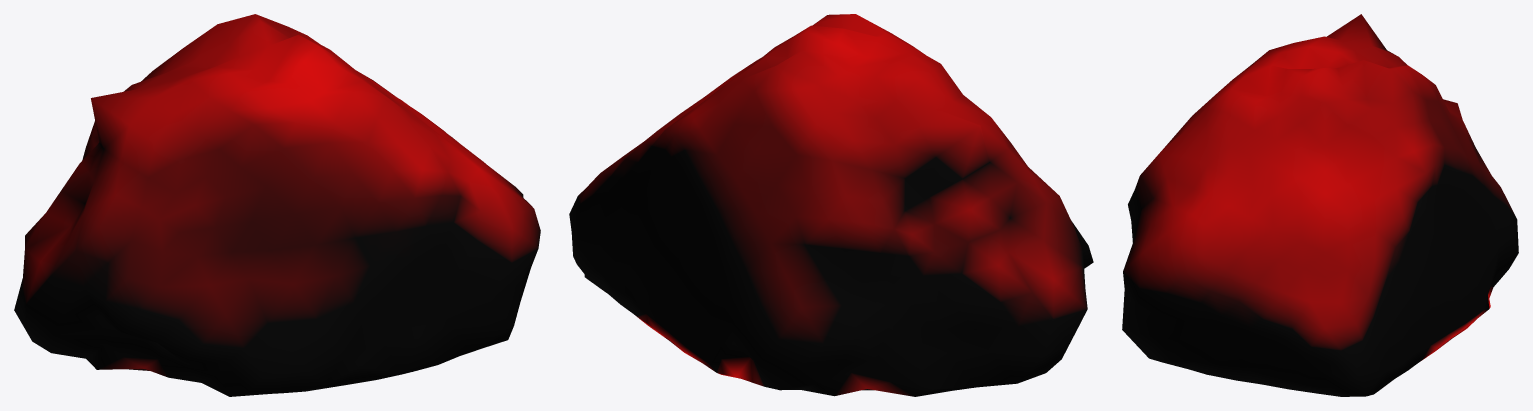
File: rock_d.glb
3 views of the same model, side by side, from view 1: azimuth 30°, elevation 25°; view 2: azimuth 150°, elevation 25°; view 3: azimuth 270°, elevation 25° (orthographic). The views are drawn at different scales.
Visible parts, largest first — view 1: rock_d_LOD0; view 2: rock_d_LOD0; view 3: rock_d_LOD0.
Boxes of the visible parts, x1,y1,x2,y2 form: rock_d_LOD0: (14,14,540,396); rock_d_LOD0: (569,14,1093,396); rock_d_LOD0: (1122,14,1518,396).
Size of what is drawn, in the model's own units: 2.6 by 1.36 by 2.01.
